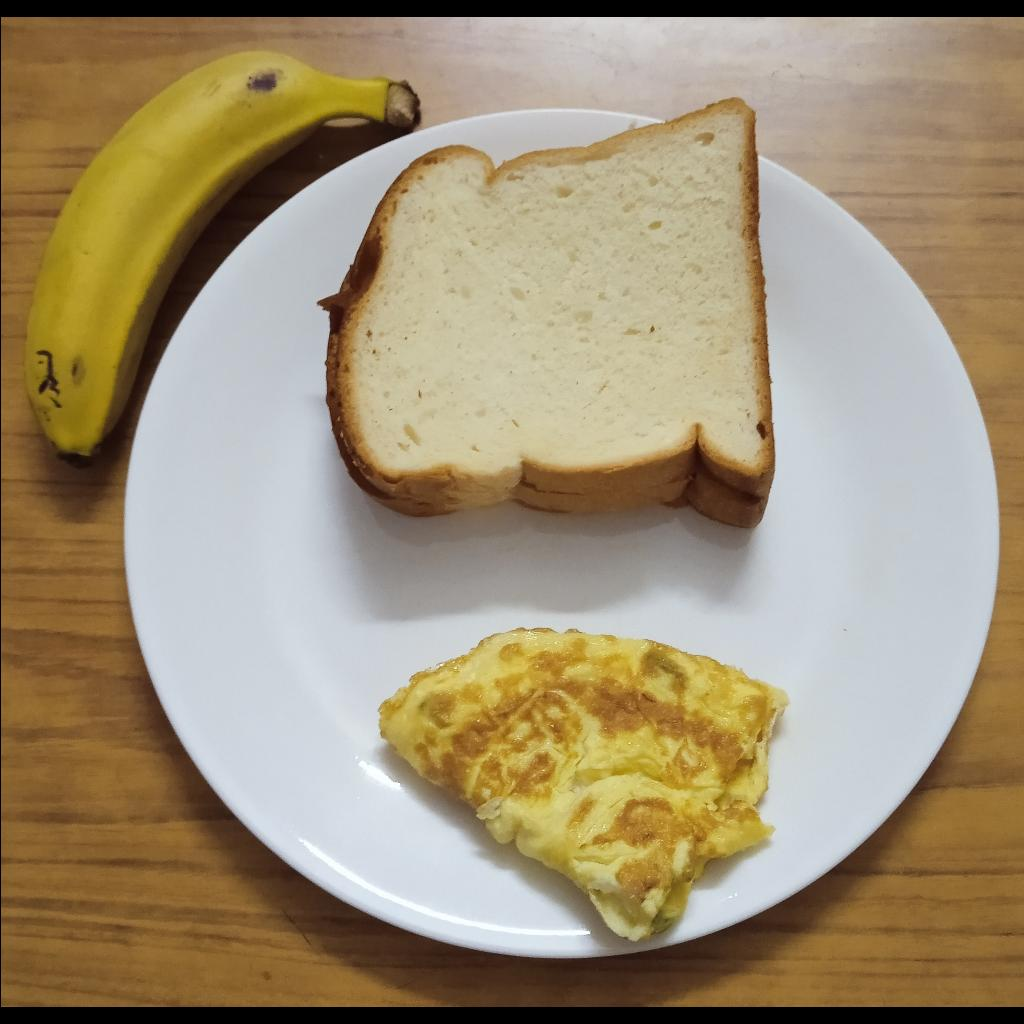banana: (20, 51, 421, 470)
bread: (316, 97, 775, 530)
egg-poached: (379, 626, 792, 941)
